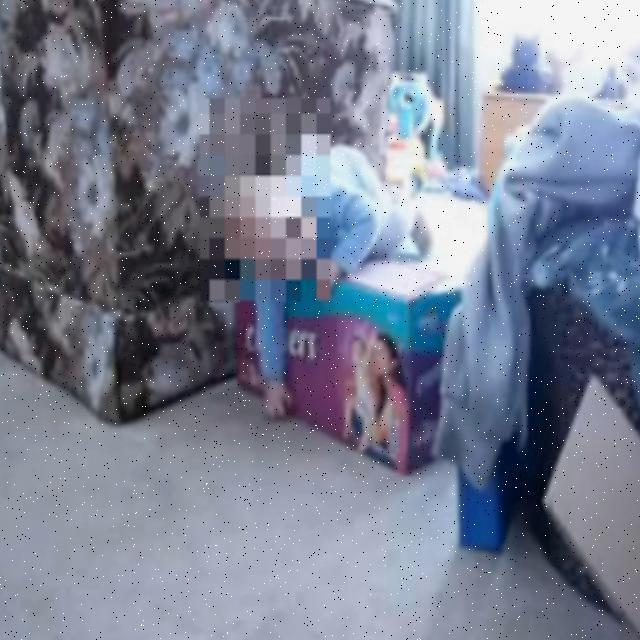child: (229, 140, 435, 429)
